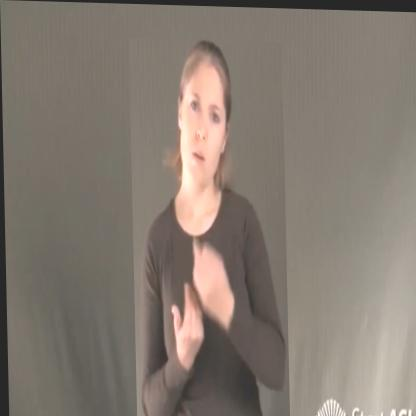HowAreYou: (129, 37, 288, 416)
